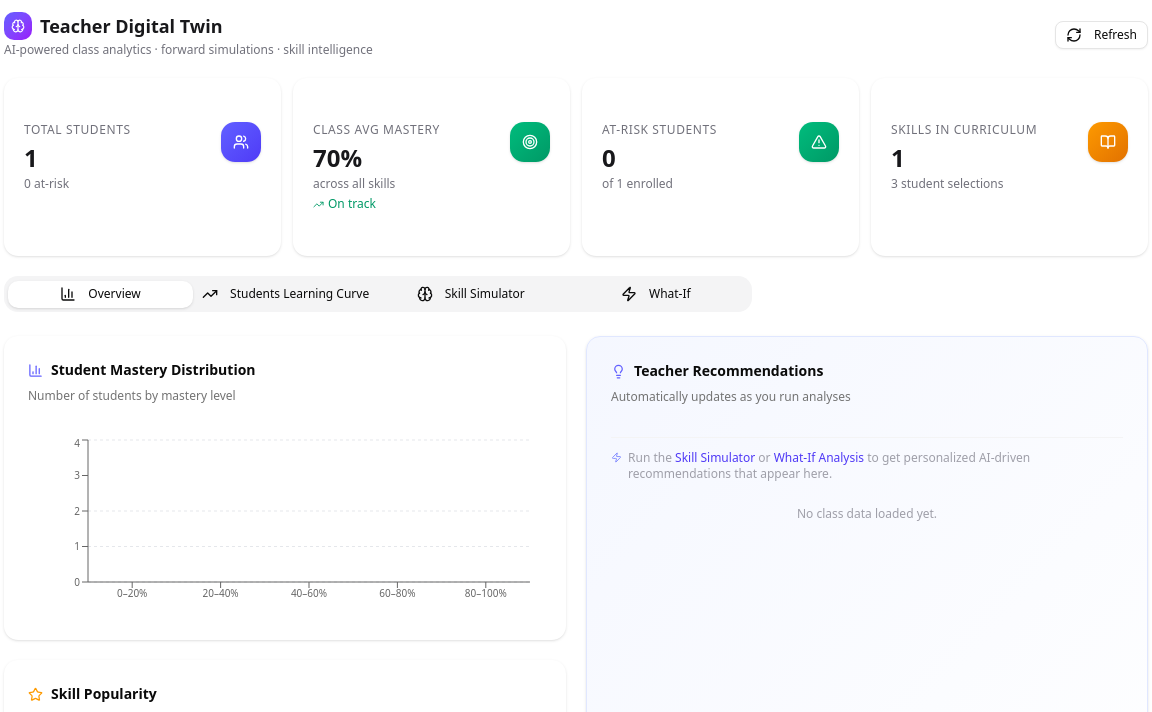
it: TeacherTwinPage › explains learning curve tiers and individualized averaging
This screenshot has width=1152, height=712.
Click the tab "Students Learning Curve" at (286, 294), box [193,280,378,308]
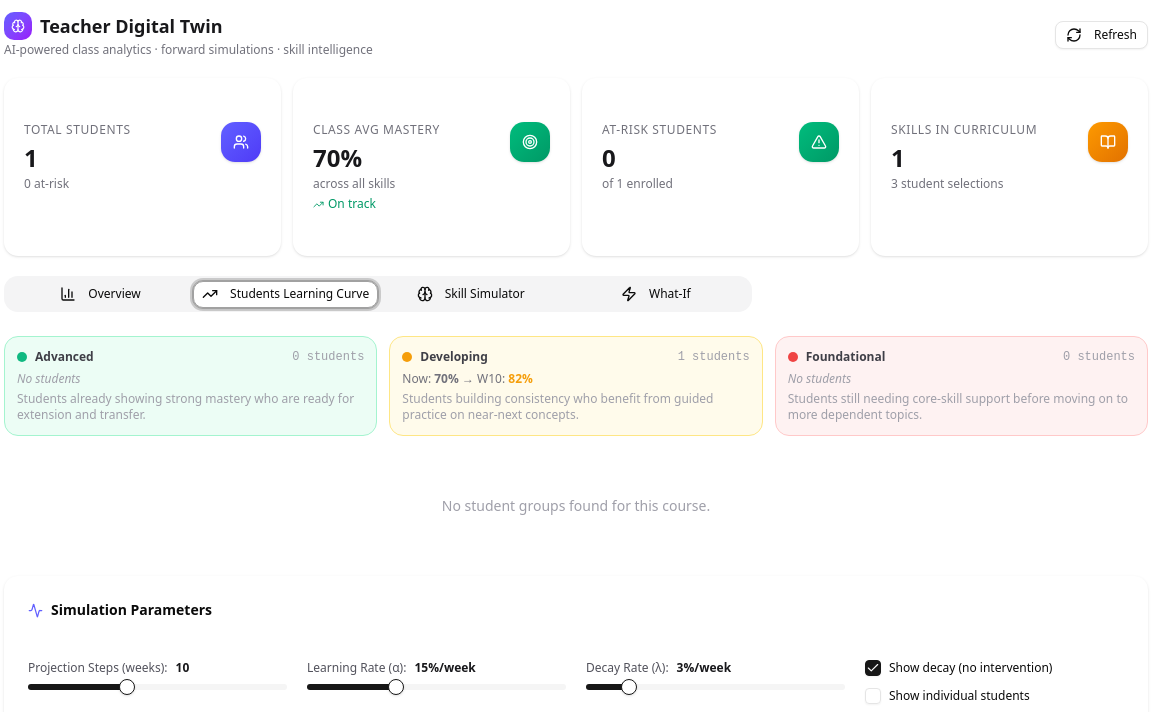
Expected: the text "Students still needing core-skill support" is shown, [788,390,1128,423]
